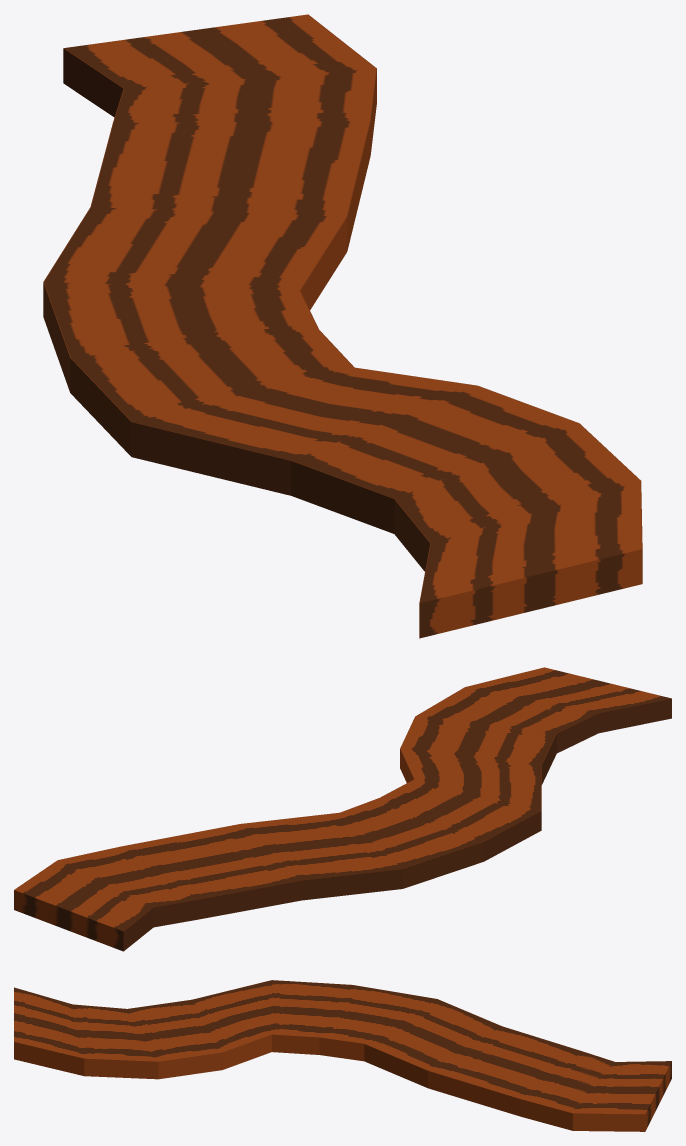
Rendered from CFAP_bacon.fbx.
The picture shows the model from 3 angles, top to bottom: view 1: azimuth 30°, elevation 25°; view 2: azimuth 150°, elevation 25°; view 3: azimuth 270°, elevation 25°; orthographic projection. The views are drawn at different scales.
Visible parts, largest first — view 1: bacon; view 2: bacon; view 3: bacon.
Part boxes in pixels (left/top/right/bottom): bacon: left=43, top=14, right=642, bottom=638; bacon: left=14, top=667, right=671, bottom=951; bacon: left=14, top=980, right=671, bottom=1131.
Size of the model in its own units: 0.2464 by 0.015 by 0.5103.
